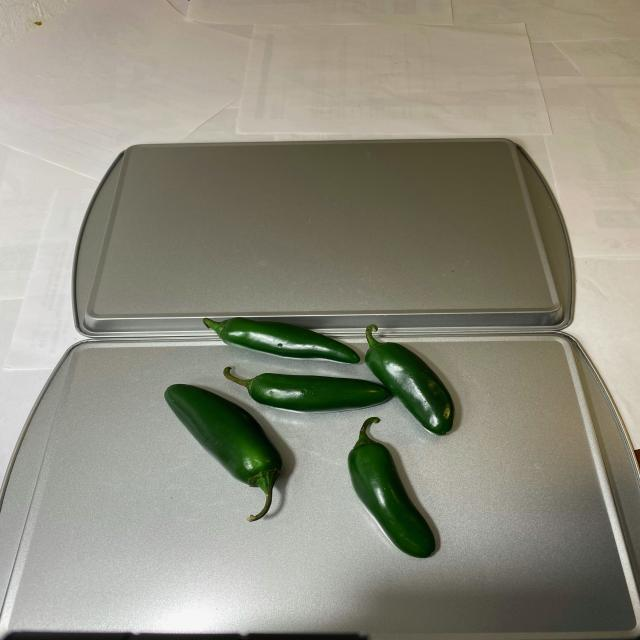chilli: (159, 306, 468, 564)
